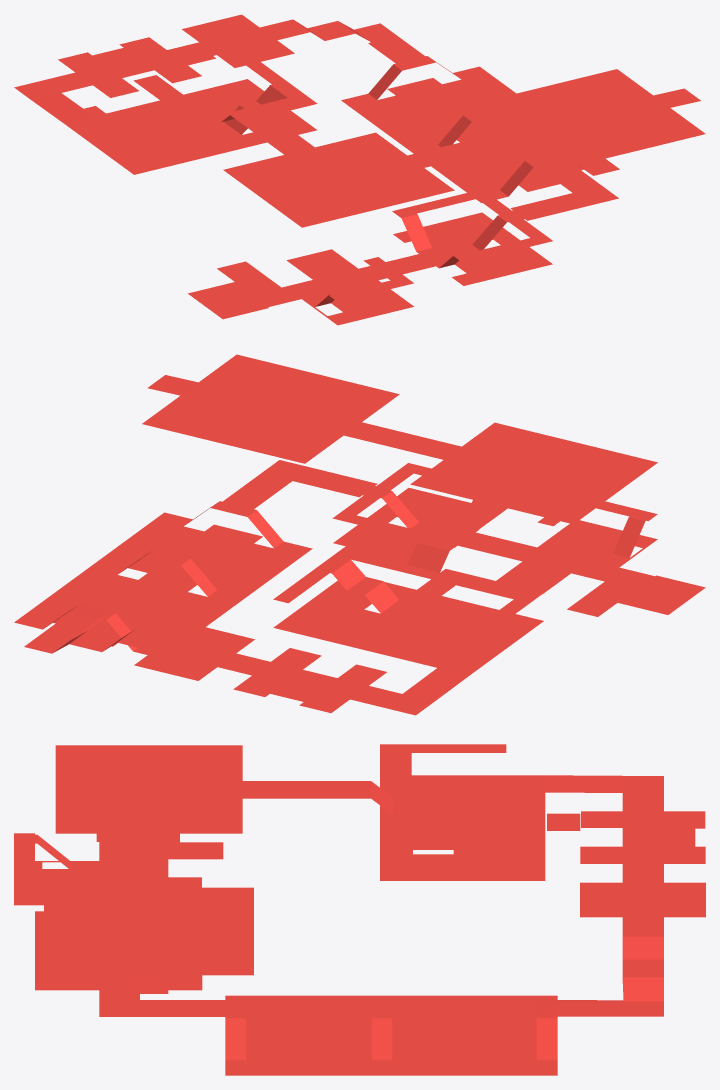
File: 0923_npc_route.fbx
3 views of the same model, one above another, from view 1: azimuth 30°, elevation 25°; view 2: azimuth 150°, elevation 25°; view 3: azimuth 270°, elevation 25° (orthographic). The views are drawn at different scales.
Visible parts, largest first — view 1: NPC_route; view 2: NPC_route; view 3: NPC_route.
Boxes of the visible parts, x1=… form: NPC_route: x1=14, y1=14, x2=705, y2=325; NPC_route: x1=14, y1=354, x2=705, y2=715; NPC_route: x1=14, y1=744, x2=705, y2=1075.
Size of the model in its own units: 9565 by 1660 by 9864.
